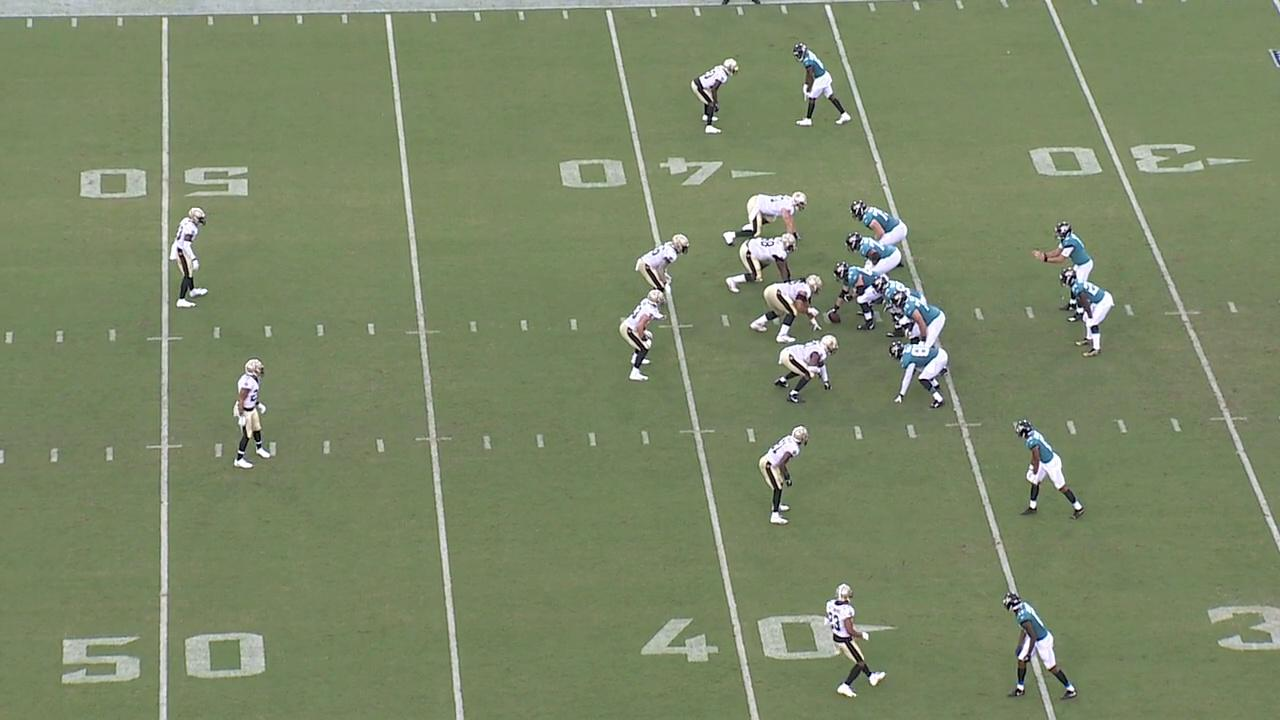five_hash: (412, 433, 456, 445), (655, 322, 697, 332), (403, 327, 440, 338), (145, 442, 185, 452), (1207, 415, 1249, 424), (676, 427, 717, 436), (1164, 308, 1203, 317), (944, 421, 986, 429), (146, 335, 185, 342)
hash: (901, 420, 923, 441), (50, 326, 70, 348), (463, 315, 483, 337), (1062, 417, 1082, 439), (0, 326, 19, 349), (310, 320, 330, 341), (316, 437, 337, 457), (1113, 414, 1130, 438), (532, 429, 549, 453), (1021, 302, 1041, 322), (43, 445, 64, 464), (584, 428, 601, 451), (715, 311, 734, 331), (478, 433, 497, 453), (372, 436, 391, 456), (850, 423, 868, 444), (1225, 299, 1243, 319), (743, 425, 761, 445), (265, 439, 282, 460), (362, 320, 380, 339), (515, 316, 533, 335), (564, 316, 583, 334), (100, 444, 118, 463), (259, 321, 276, 341), (208, 322, 224, 343), (211, 440, 227, 461), (106, 325, 121, 347), (1167, 416, 1185, 434), (638, 427, 652, 448), (1122, 301, 1138, 319), (972, 303, 987, 321)
number: (54, 626, 275, 691), (633, 607, 843, 669), (73, 161, 255, 206), (553, 152, 728, 196), (1025, 138, 1205, 179)
